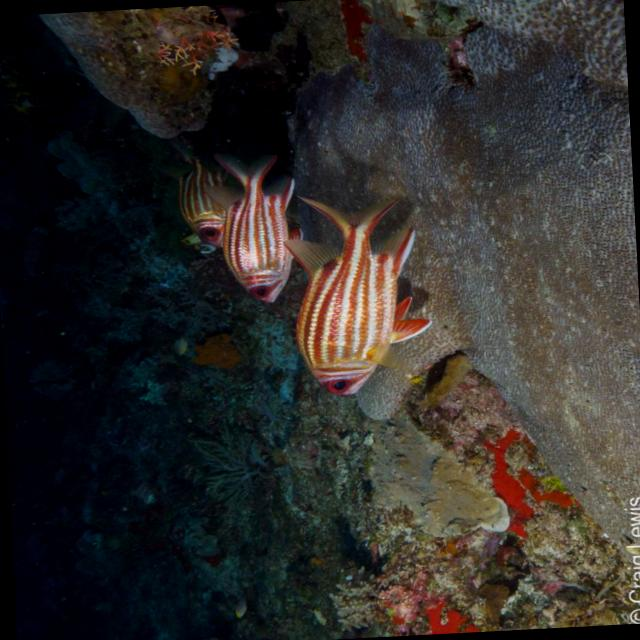Asker Baligi: (264, 178, 443, 402)
